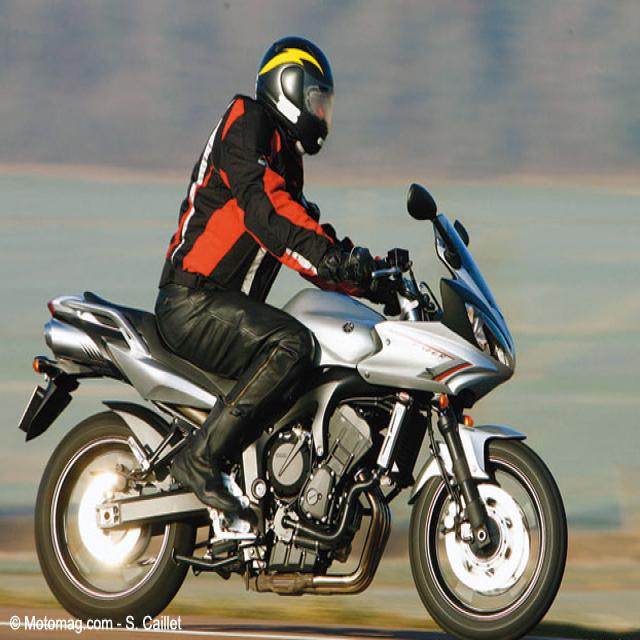helmet: (251, 32, 339, 162)
